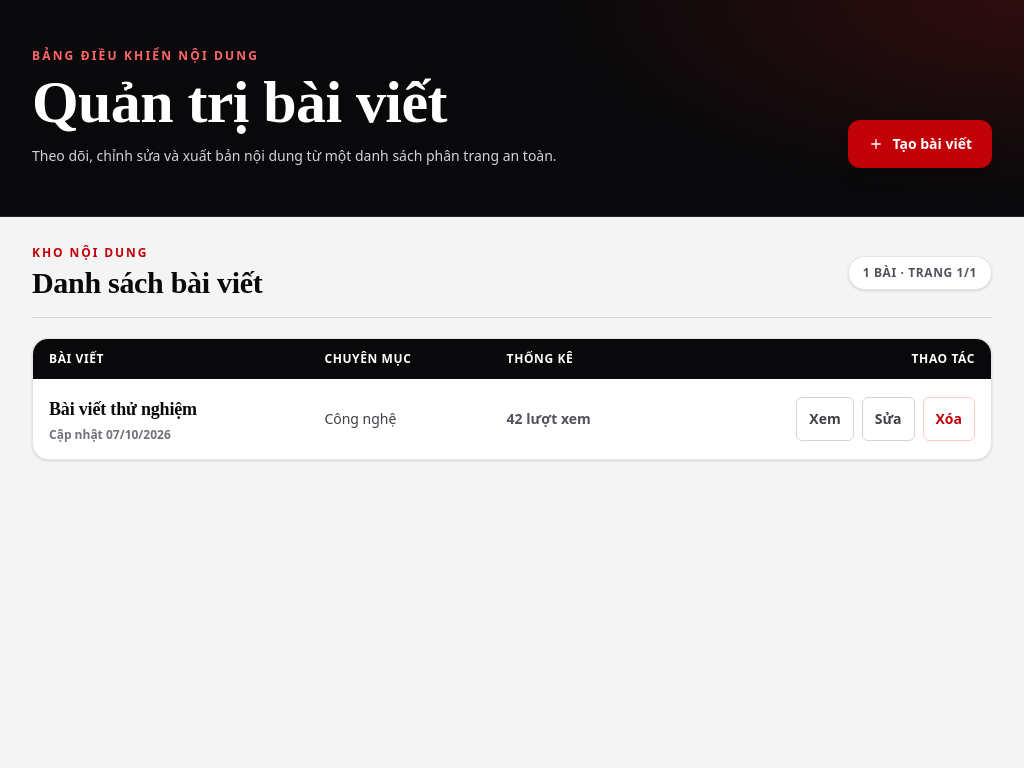
it: AdminPostsPage › xóa không thành công thì giữ bài và hiện lỗi API
Click the button with aria-label "Xóa Bài viết thử nghiệm" at [949, 419], box x1=922 y1=397 x2=975 y2=441
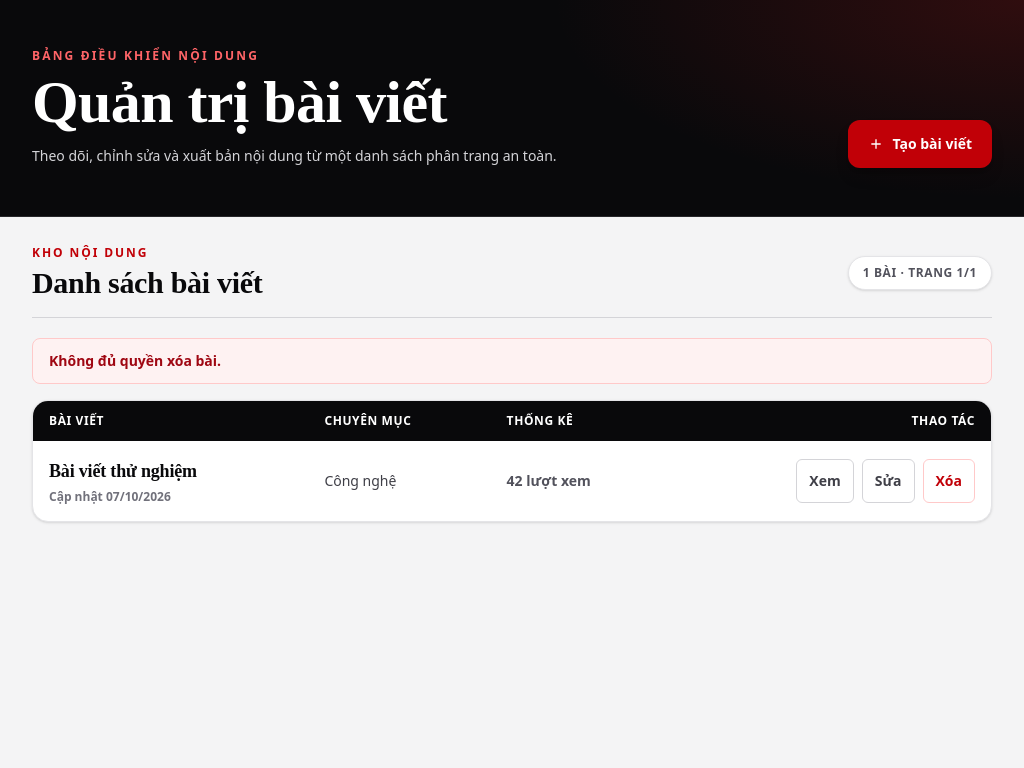
Expected: the link "Bài viết thử nghiệm" is shown, x1=49 y1=461 x2=197 y2=481
Now the message reads "Không đủ quyền xóa bài.", box x1=49 y1=351 x2=221 y2=370
